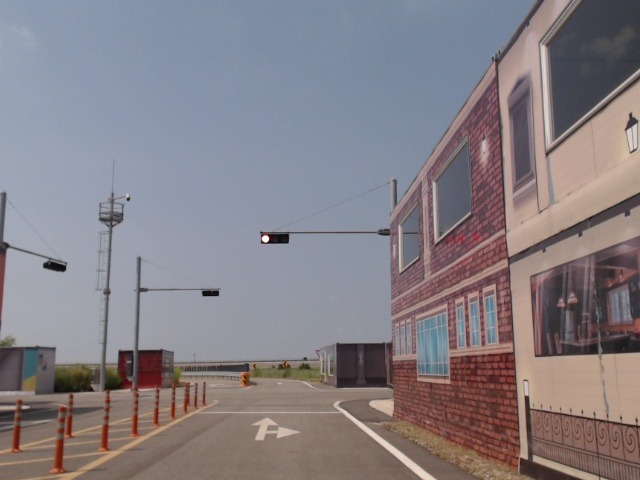red_3: (260, 234, 290, 243)
